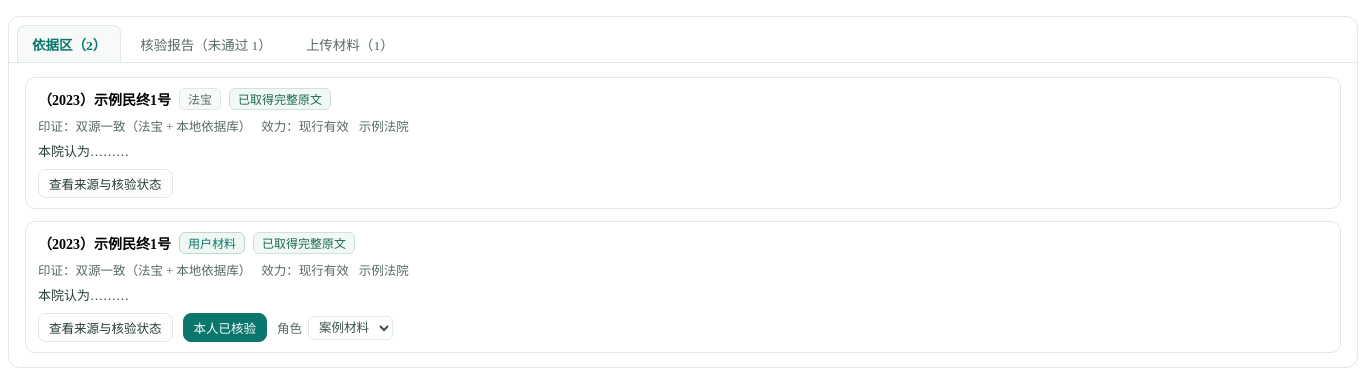
依据区 / 核验报告 / 上传材料 › 材料页签展示待核验与自动识别信息
Click the tab "上传材料（1）": (350, 44) [291,25,409,62]
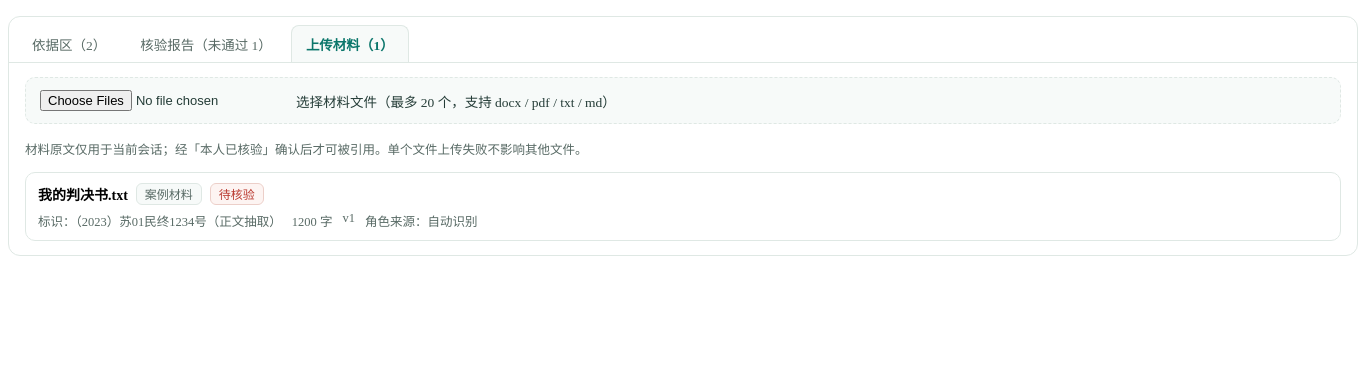
Expected: the text "我的判决书.txt" is shown, [38,184,128,204]
Expected: the text "待核验" is shown, [210,183,264,205]
Expected: the text "角色来源：自动识别" is shown, [365,211,478,230]
